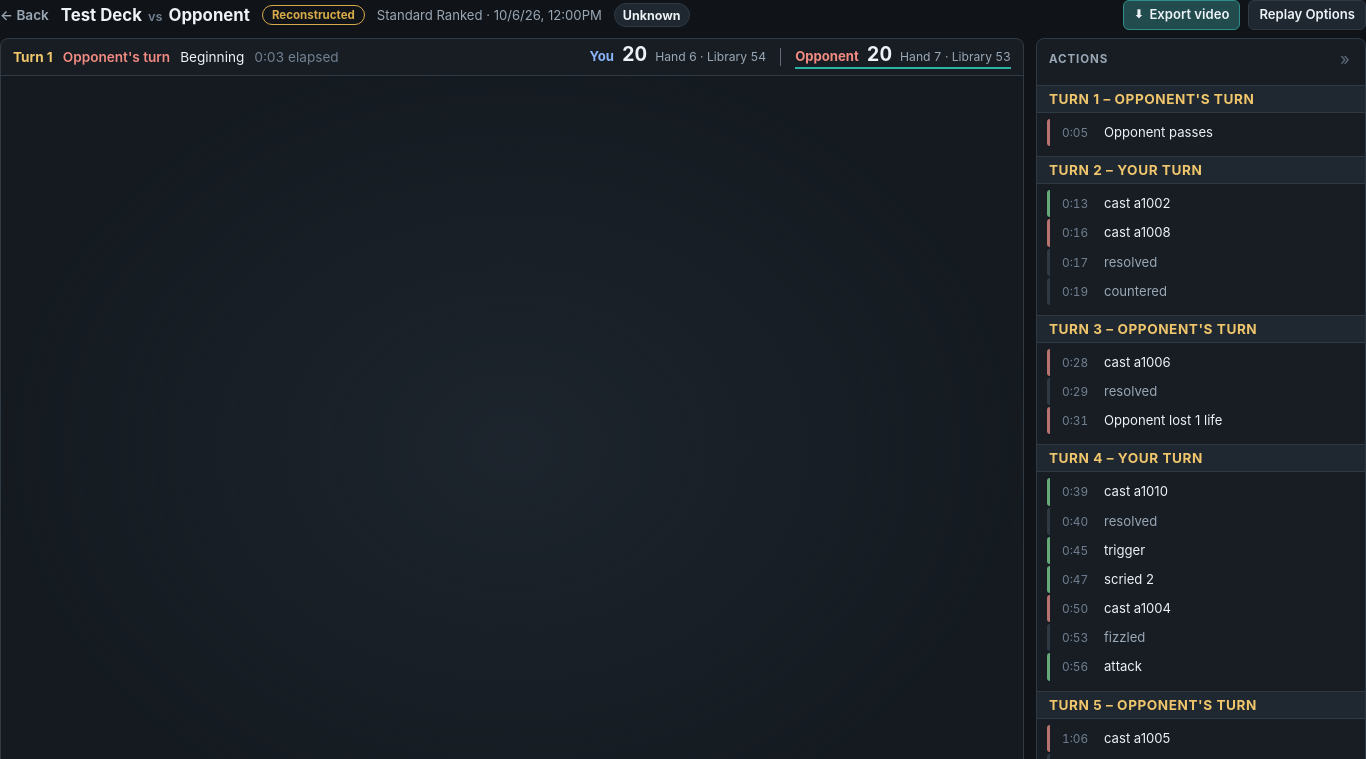
Scenario: ReplayPage › labels reconstructed streams with their limitations and disables hindsight
Click the button "Replay Options" at (1307, 15), box x1=1248 y1=0 x2=1365 y2=30
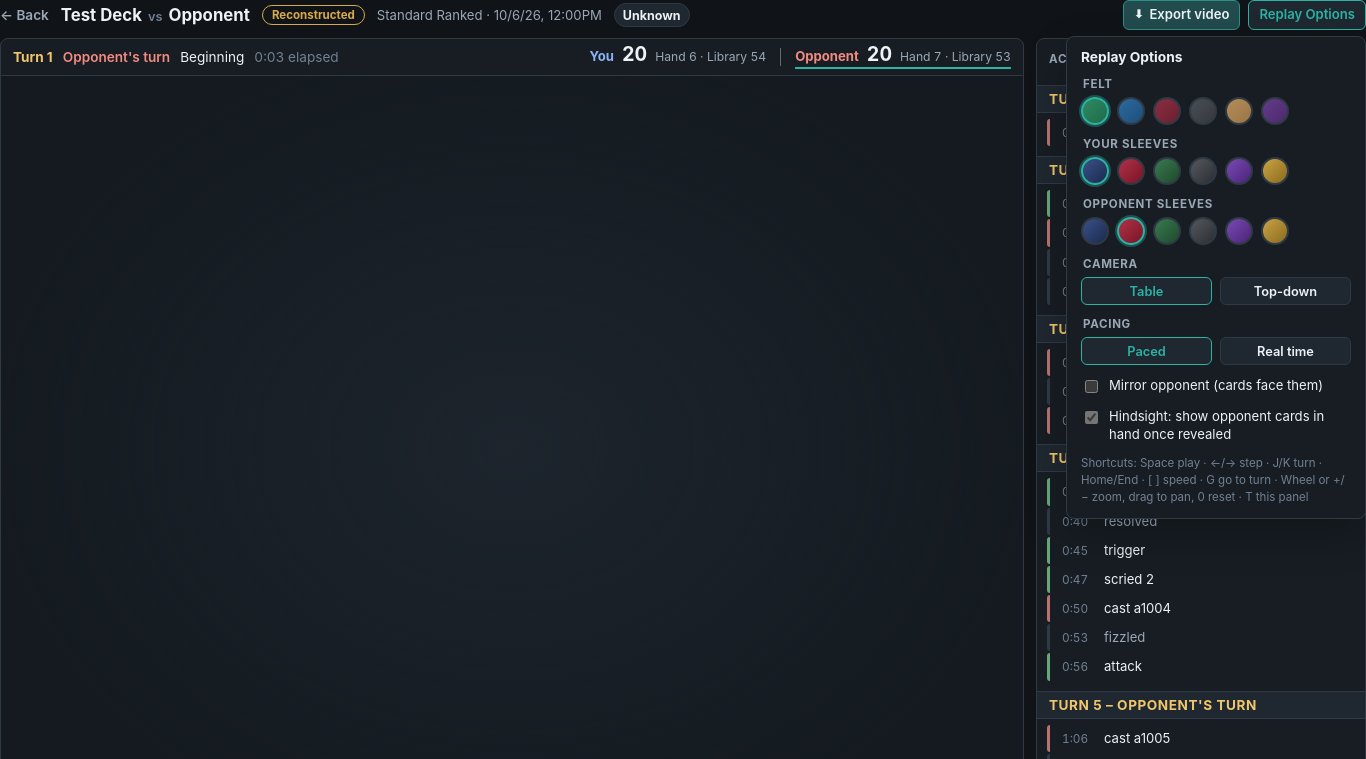
Now the checkbox labelled "Hindsight: show opponent cards in hand once revealed" is disabled, box x1=1085 y1=411 x2=1098 y2=424
